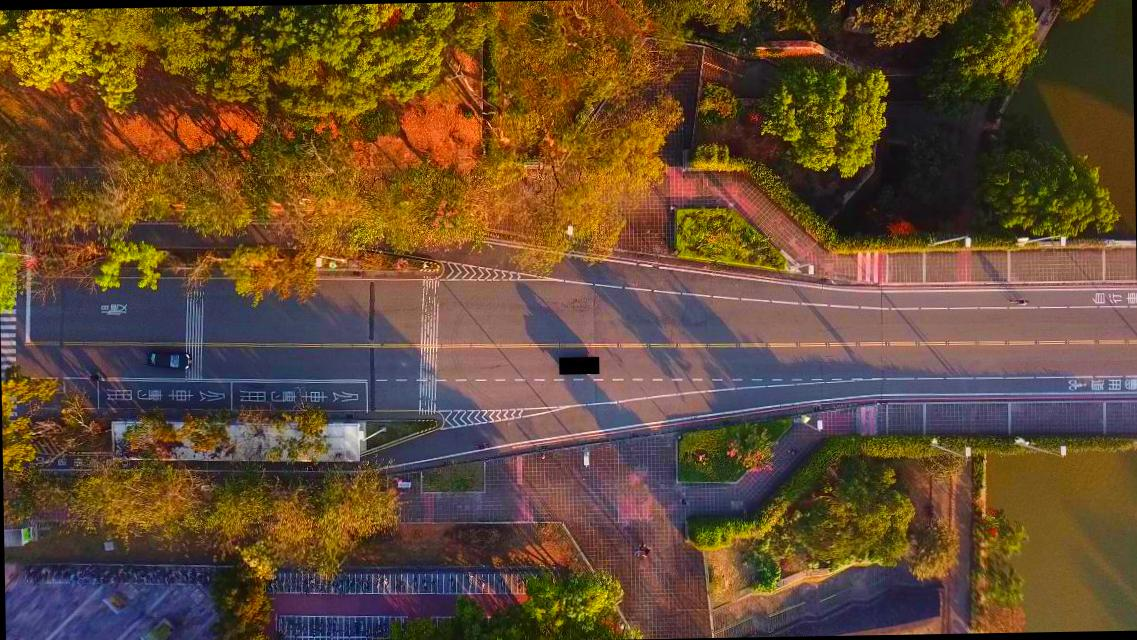vehicle: (148, 350, 192, 370)
